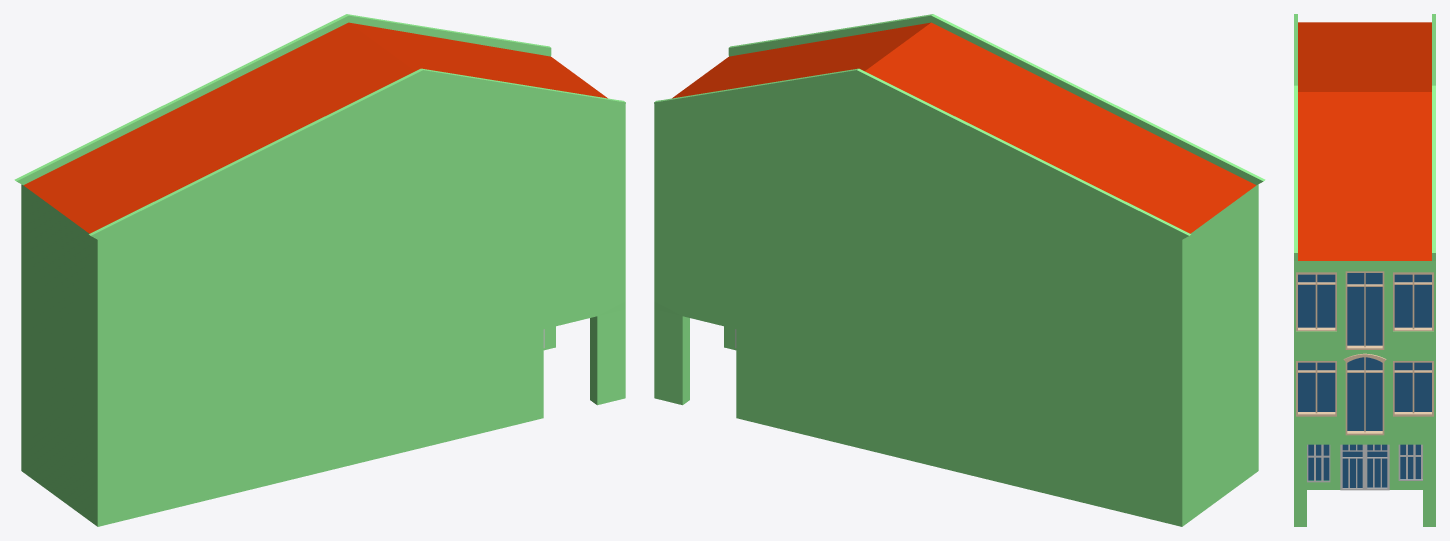
Rendered from house4.fbx.
3 views of the same model, side by side, from view 1: azimuth 30°, elevation 25°; view 2: azimuth 150°, elevation 25°; view 3: azimuth 270°, elevation 25° (orthographic). The views are drawn at different scales.
Visible parts, largest first — view 1: house3; view 2: house3; view 3: house3.
Part boxes in pixels (x1,y1,x2,y2): house3: [14, 14, 625, 526]; house3: [654, 14, 1265, 526]; house3: [1294, 14, 1435, 526].
Size of the model in its own units: 1208 by 813 by 299.
